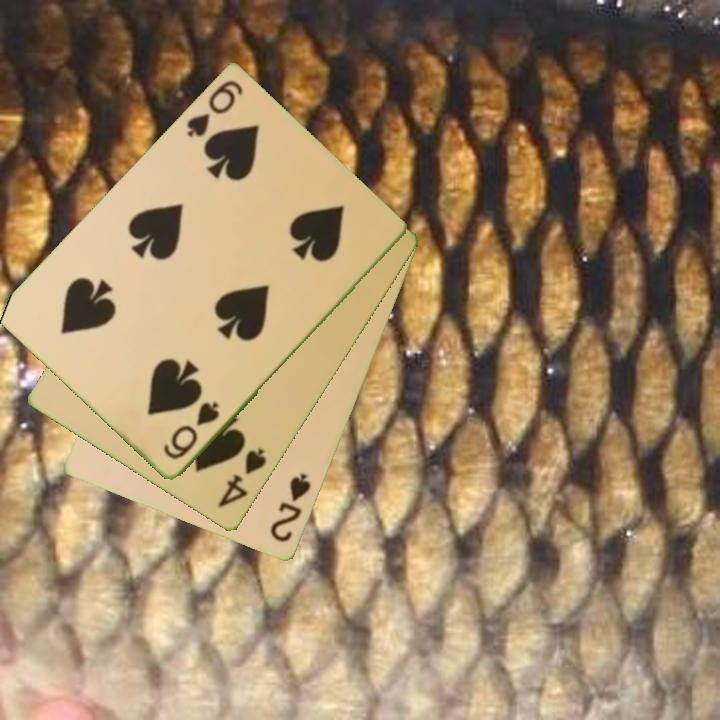2s: (267, 470, 314, 546)
4s: (214, 444, 270, 511)
6s: (182, 77, 246, 142), (159, 399, 223, 463)
